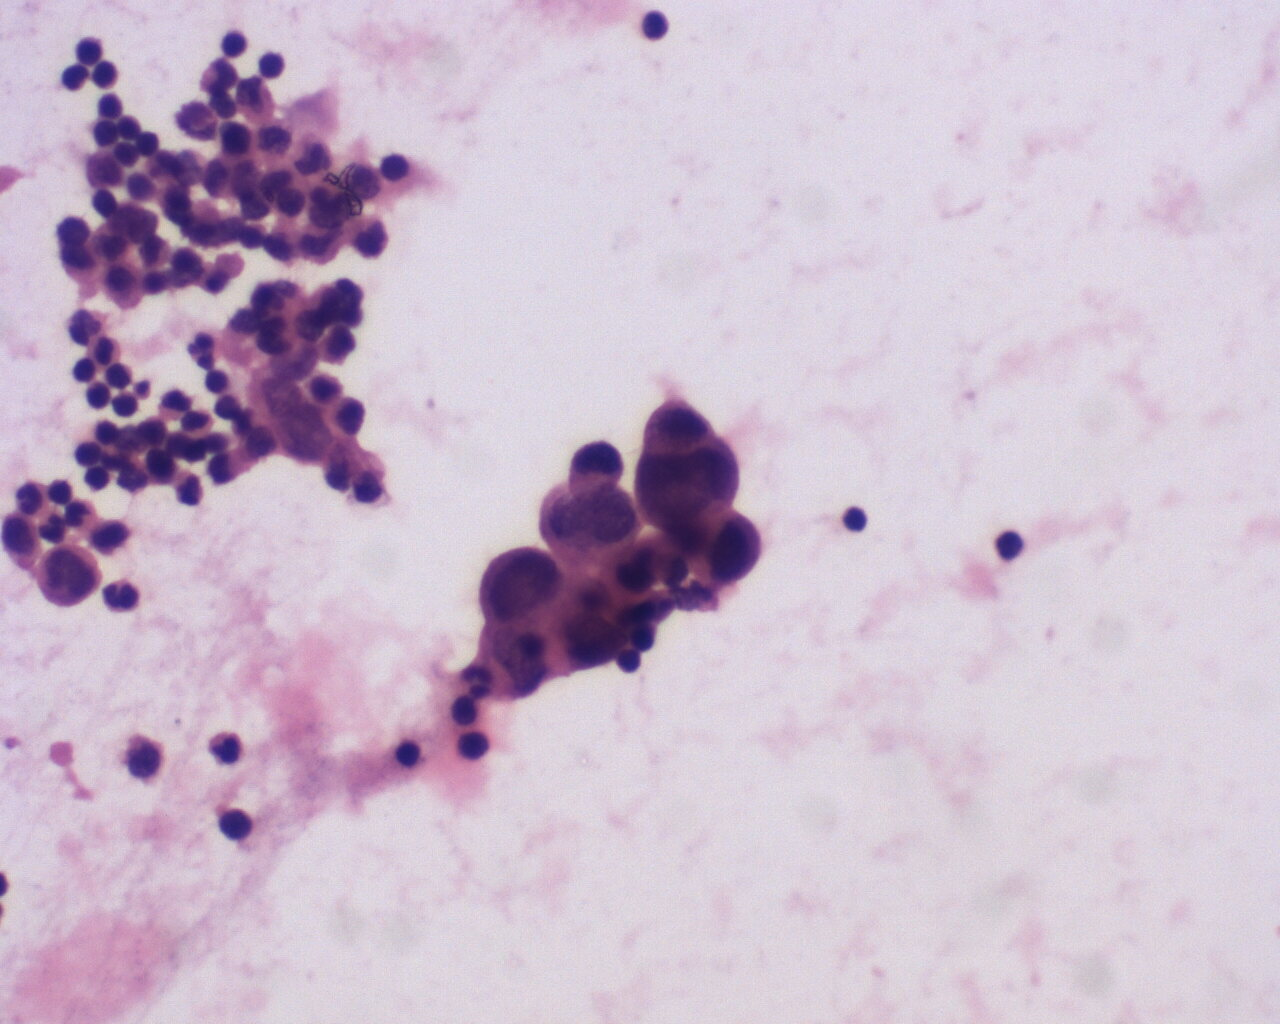ab: (630, 432, 741, 519), (540, 475, 643, 566), (473, 545, 566, 623), (691, 506, 767, 594), (34, 544, 104, 612), (641, 397, 717, 455), (323, 392, 371, 441)
lymph: (993, 522, 1030, 564), (217, 805, 254, 846), (377, 149, 417, 186), (641, 10, 674, 50), (453, 732, 492, 762), (219, 28, 252, 63), (69, 34, 104, 65), (839, 501, 869, 534), (73, 356, 103, 385), (83, 382, 109, 412)
neutro: (209, 725, 246, 770)
